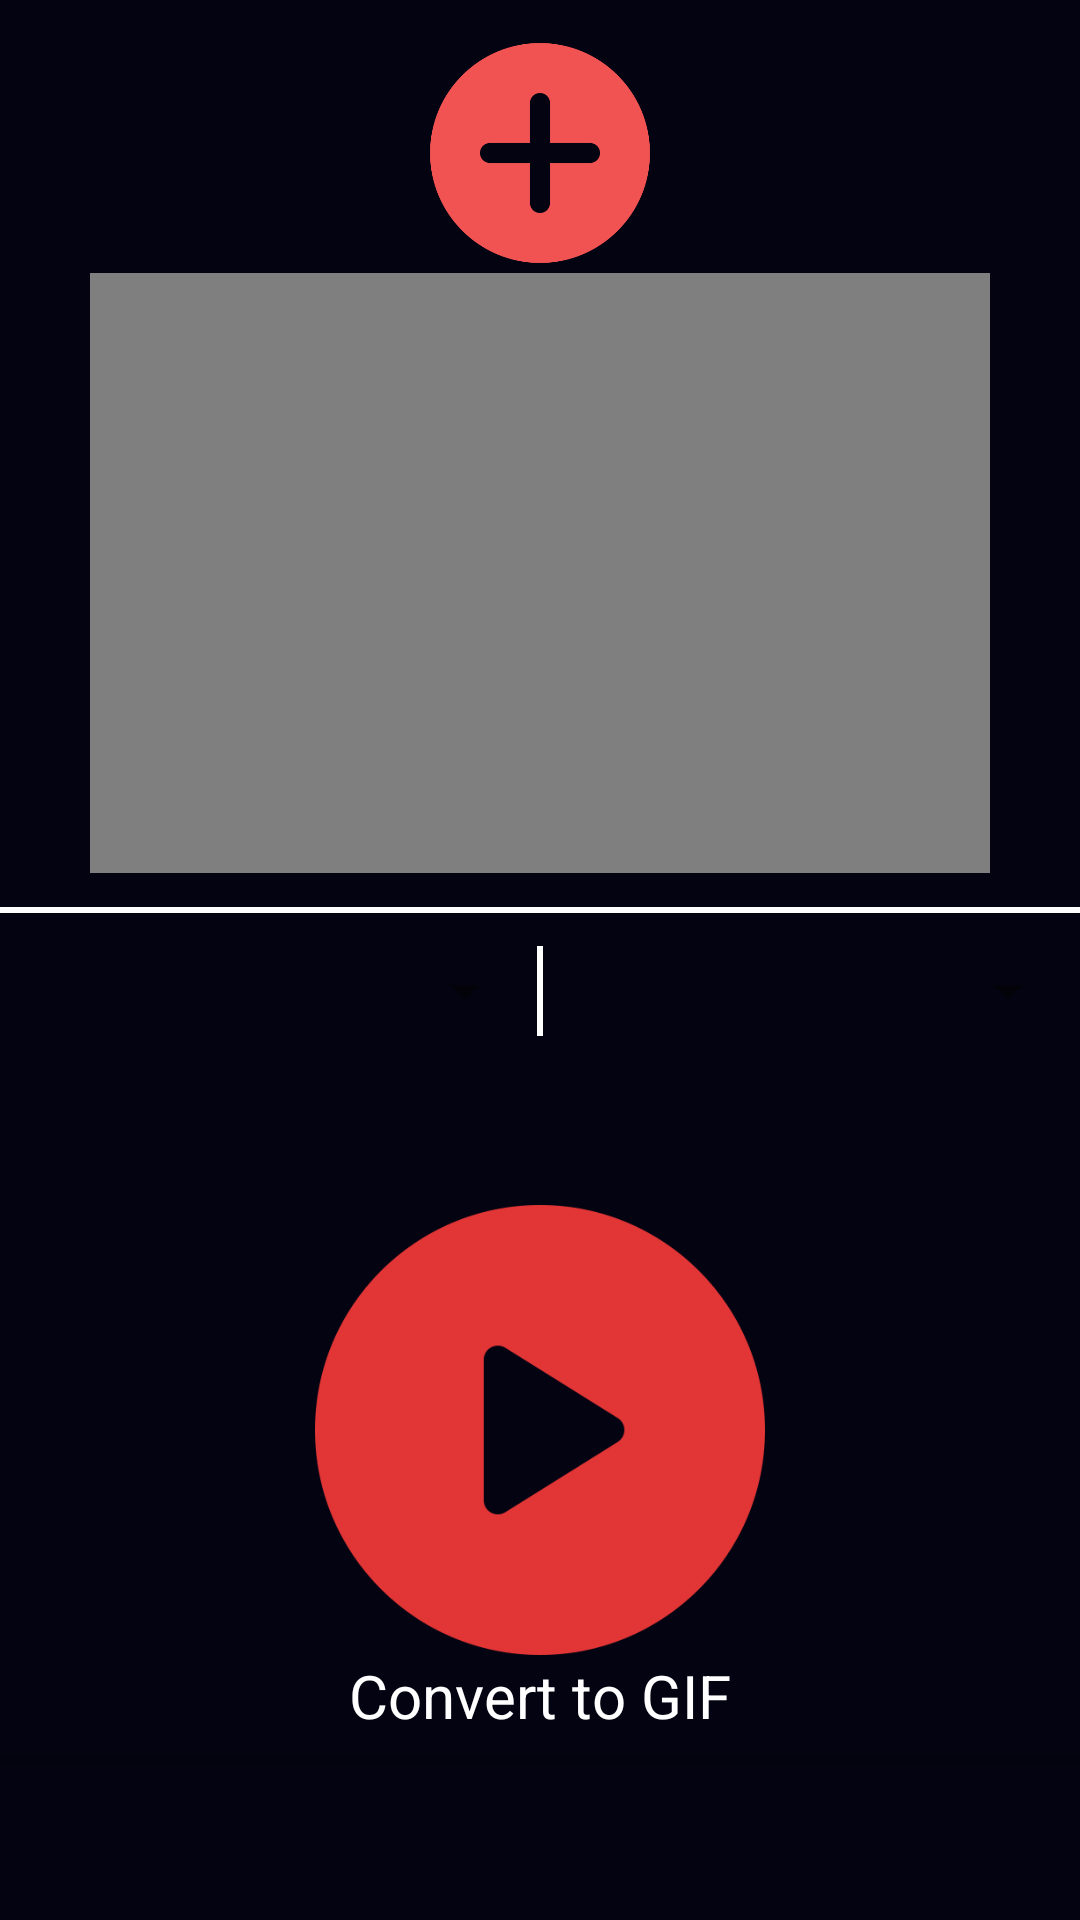

Icon bounding boxes for this 1080×1920 phone screenshot, format box=[x1, y1, x2, y2]:
add: box=[430, 43, 650, 263]
